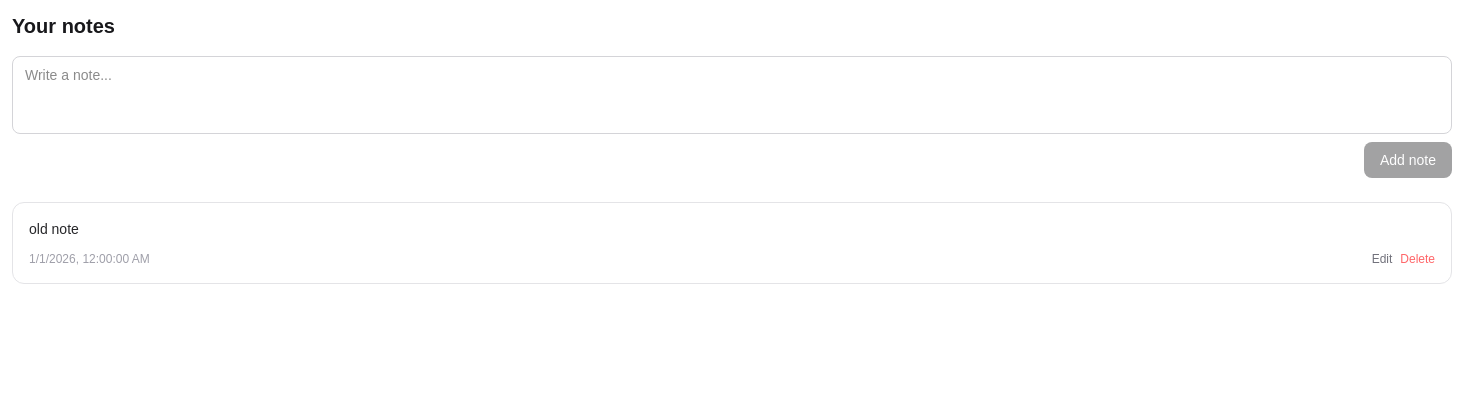
Test: Notes › creates a note and prepends it to the list
Expected: the text "old note" is shown, x1=29 y1=221 x2=79 y2=237
Type "brand new" into the text box with placeholder "Write a note..." at [732, 95], box x1=12 y1=56 x2=1452 y2=134
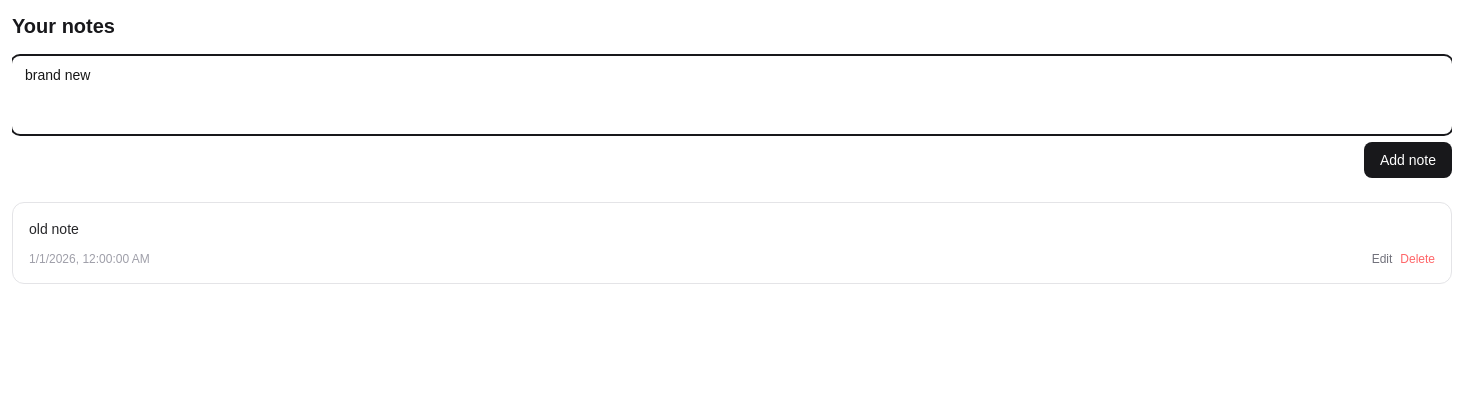
Click the button "Add note" at [1408, 160], box x1=1364 y1=142 x2=1452 y2=178
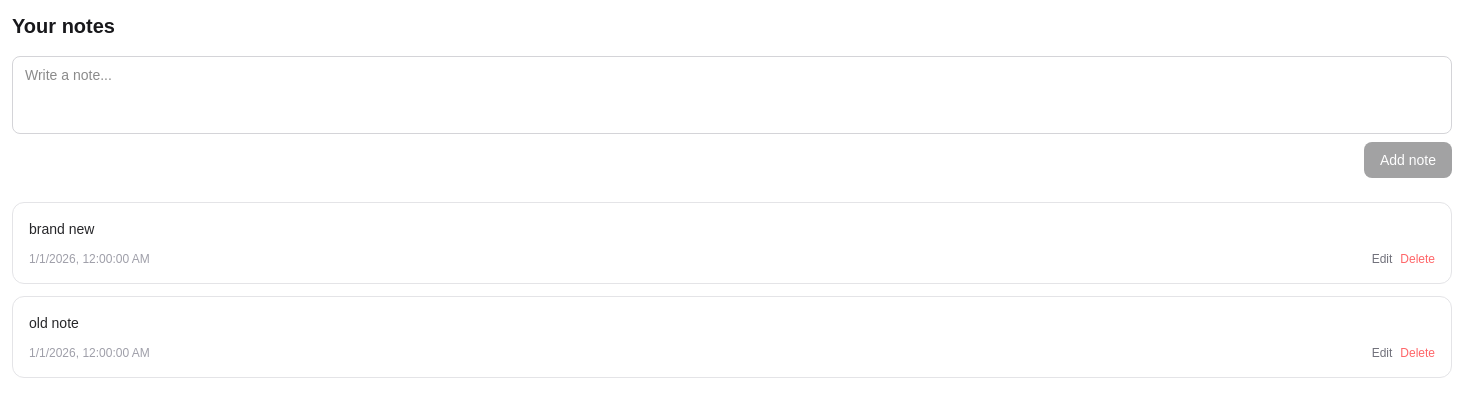
Now the text "brand new" is shown, box x1=29 y1=221 x2=94 y2=237
